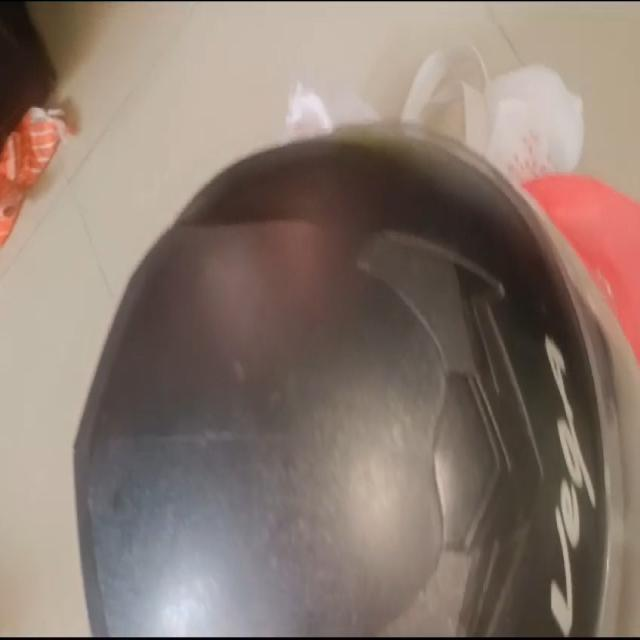Helmet: (75, 128, 622, 636)
